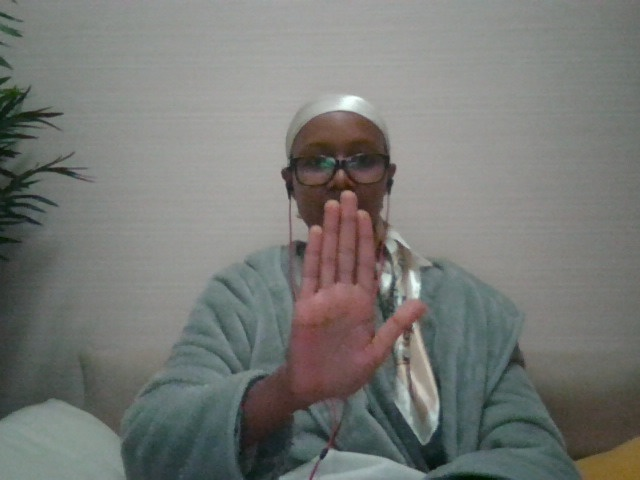highfive: (278, 186, 440, 420)
